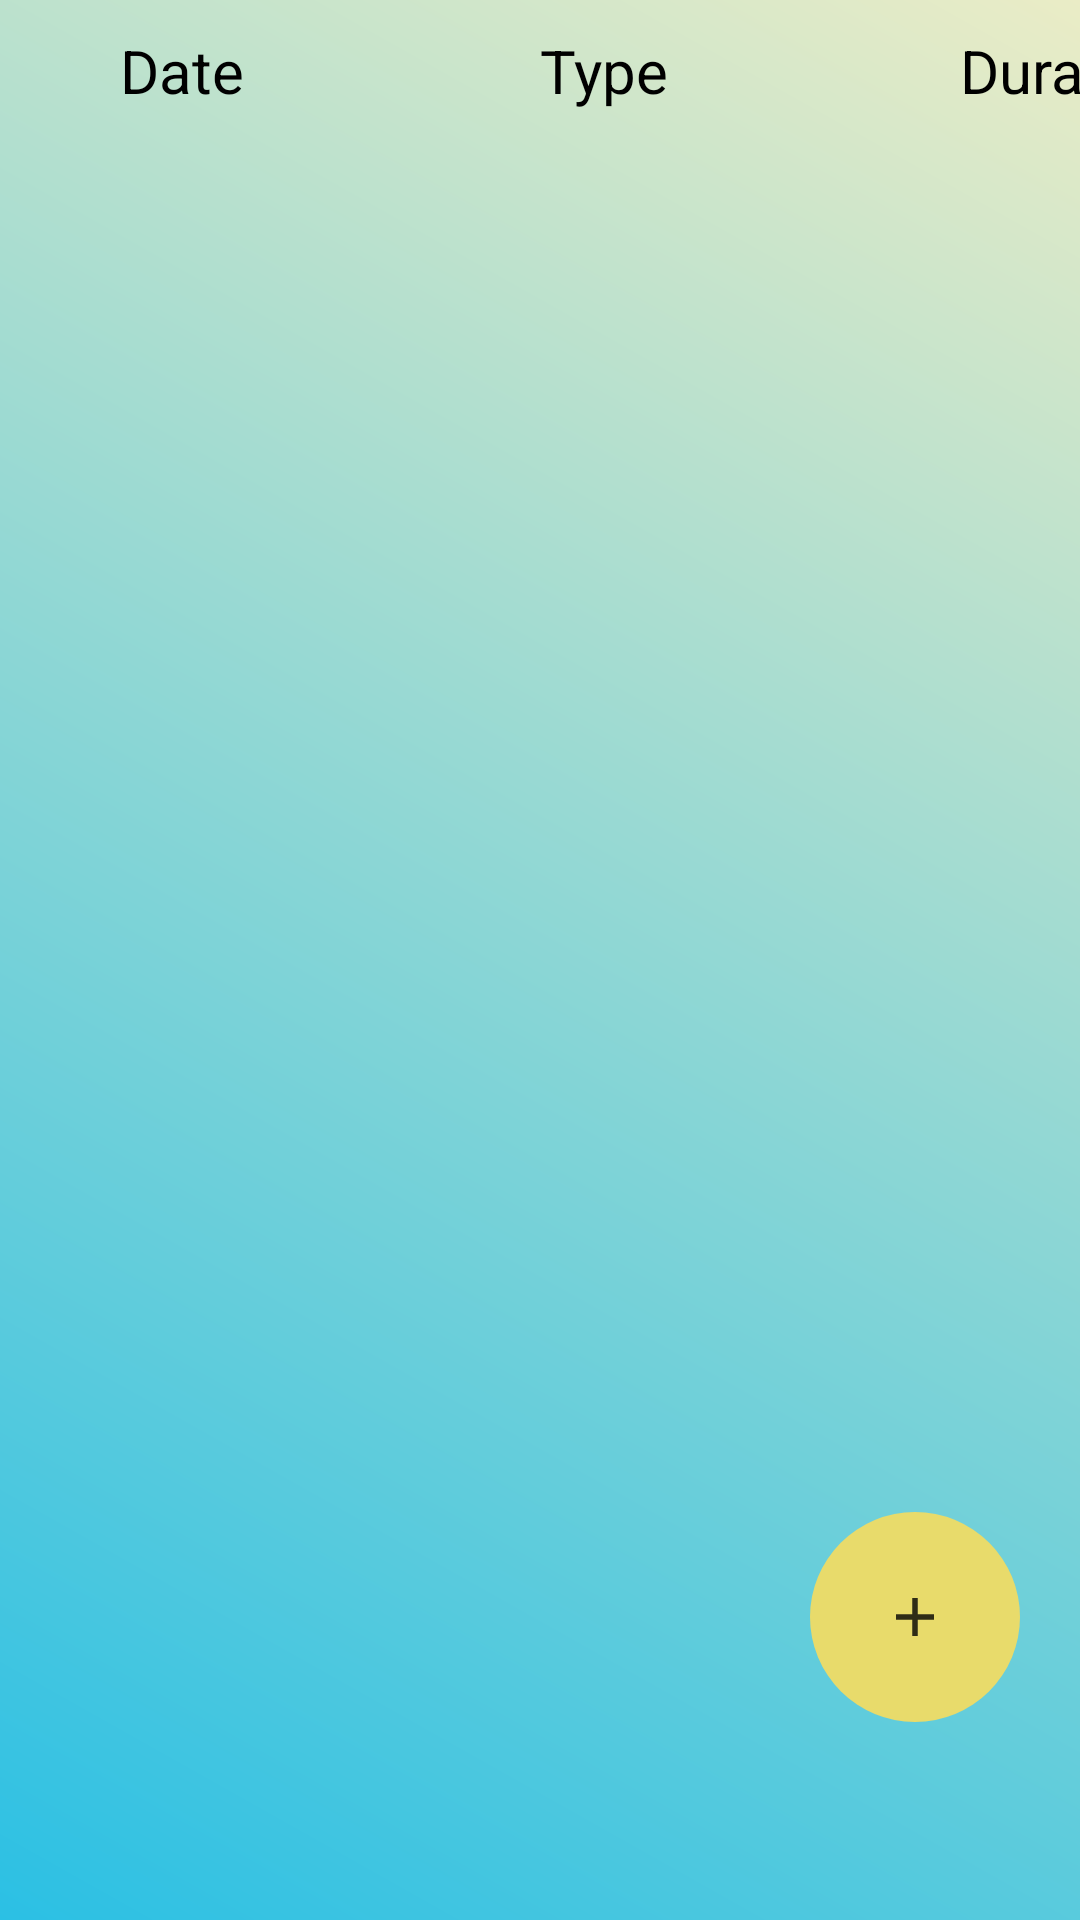

Where icons sit on this 1080×1920 app screen, as box=[x1, y1, x2, y2]:
add: box=[810, 1512, 1020, 1722]
